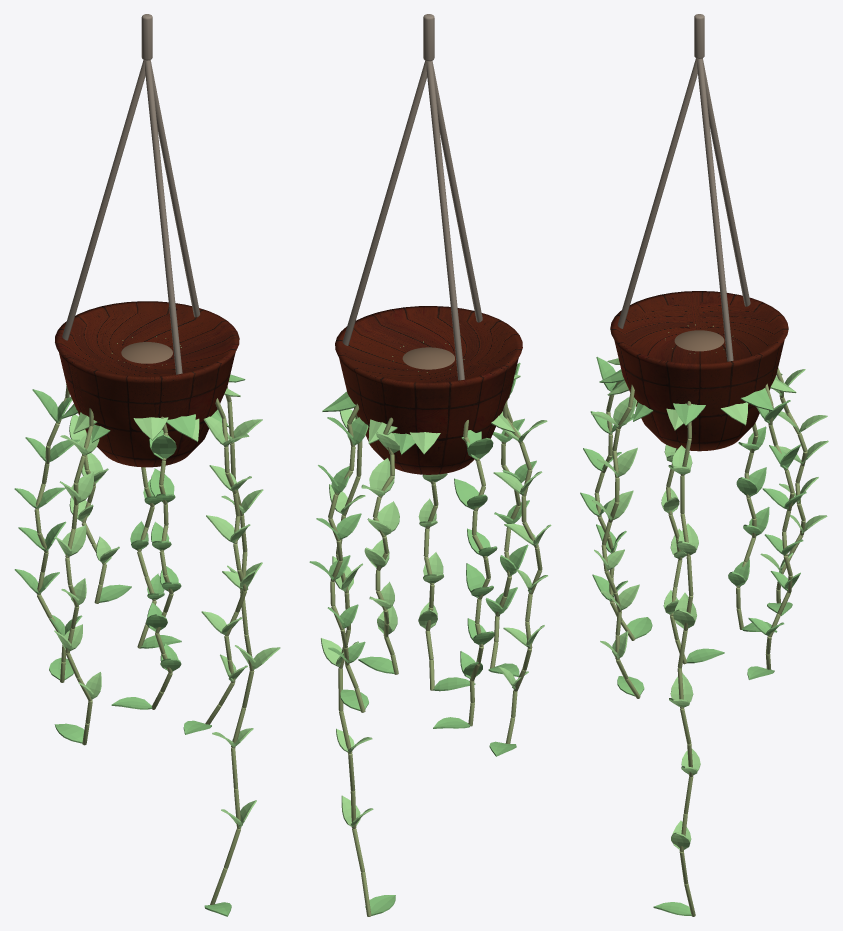
Rendered from hanging_planter.glb.
3 views of the same model, side by side, from view 1: azimuth 30°, elevation 25°; view 2: azimuth 150°, elevation 25°; view 3: azimuth 270°, elevation 25° (orthographic). The views are drawn at different scales.
Parts seen in each view (by area): view 1: vaso_pendurado; view 2: vaso_pendurado; view 3: vaso_pendurado.
Boxes of the visible parts, x1=… form: vaso_pendurado: x1=14, y1=14, x2=280, y2=916; vaso_pendurado: x1=309, y1=14, x2=551, y2=916; vaso_pendurado: x1=580, y1=14, x2=828, y2=916.
Bounding box in the file's own units: 0.4384 × 1.67 × 0.4322.
Materials: 6 (1 with a texture image).
